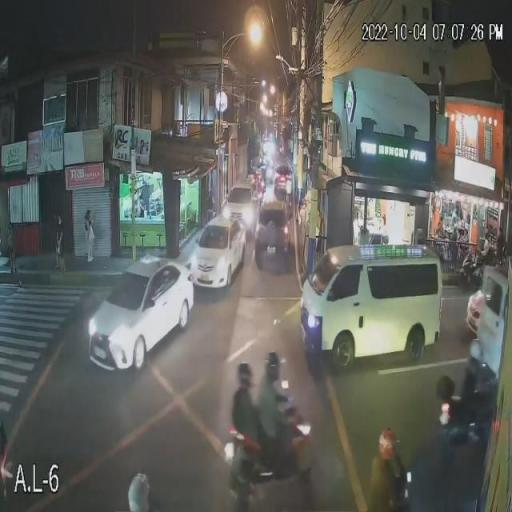helmet: (375, 424, 400, 463), (264, 349, 283, 382), (237, 361, 256, 389)
motorcycle: (222, 423, 320, 492)
rider: (232, 388, 275, 478), (259, 388, 291, 473), (368, 465, 402, 512)
